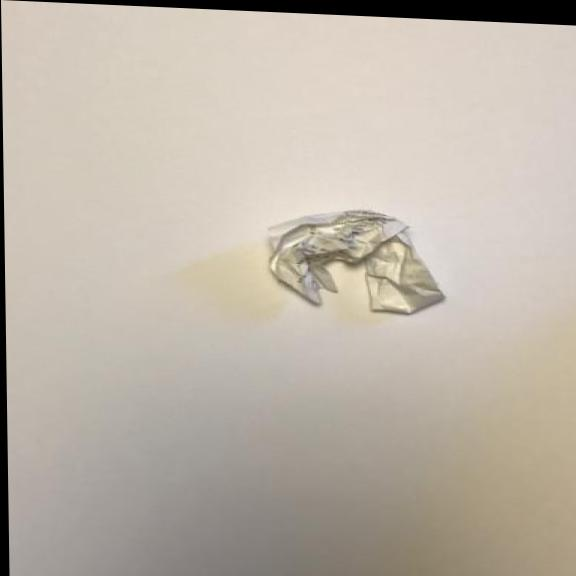Kertas: (258, 197, 453, 331)
